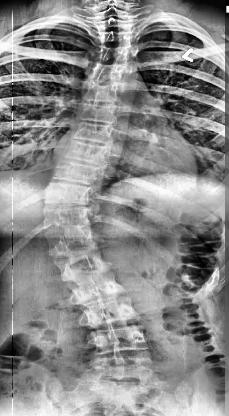Vertebrae: (63, 266, 128, 298), (53, 247, 116, 275), (87, 328, 153, 354), (40, 203, 98, 230), (76, 299, 140, 323), (50, 160, 102, 188), (40, 228, 98, 251), (41, 182, 96, 206), (72, 122, 119, 146), (64, 144, 112, 166), (82, 80, 122, 102), (78, 101, 120, 119), (88, 60, 128, 78), (94, 45, 130, 59), (98, 29, 130, 43)
